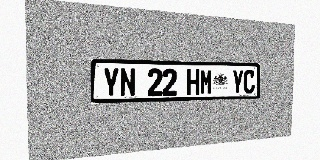2: (148, 68, 162, 96), (163, 68, 177, 96)
C: (243, 70, 255, 94)
H: (186, 69, 200, 95)
M: (200, 69, 213, 95)
N: (120, 68, 136, 97)
Y: (103, 68, 119, 97), (232, 70, 244, 94)
